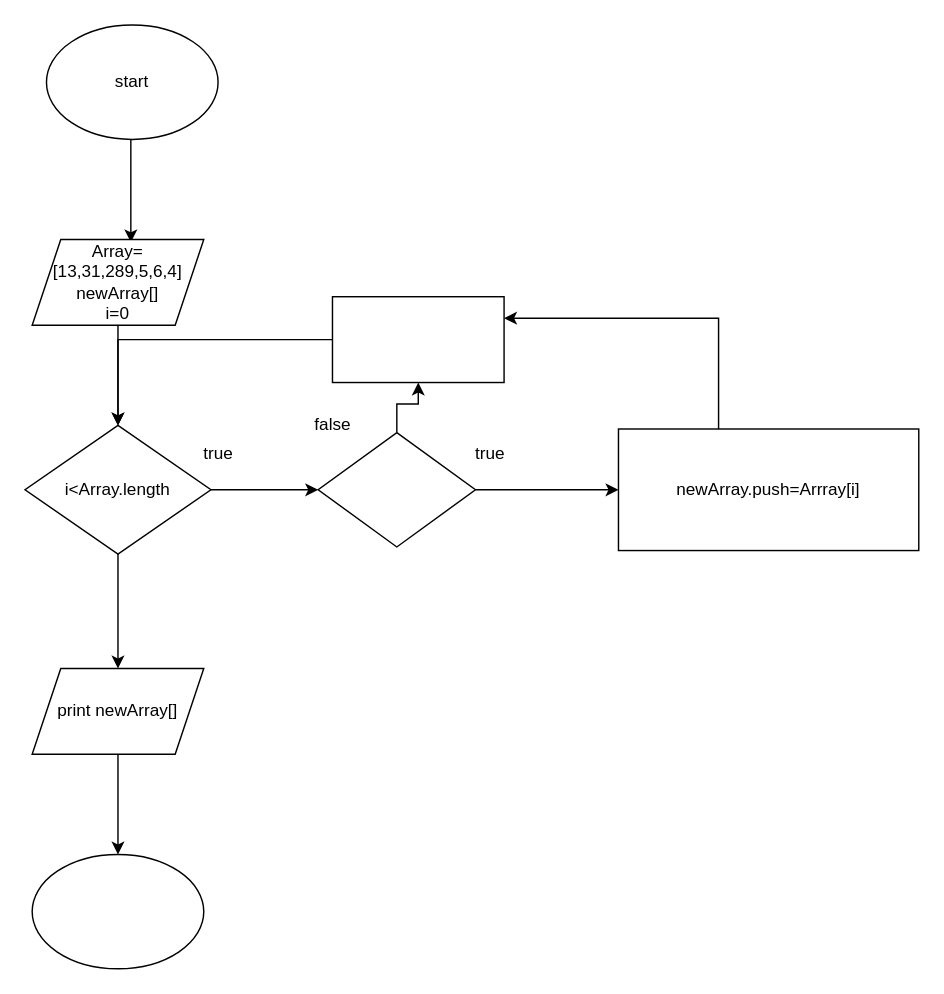
Some shapes in this 944 by 994 pixel diagram are drawn without their labels. The box of each missing label's shape, as (x1, y1, x2, y2) in pixels:
100>Array[i]>9: (317, 431, 475, 547)
end: (31, 853, 204, 969)
i++: (331, 295, 504, 383)
